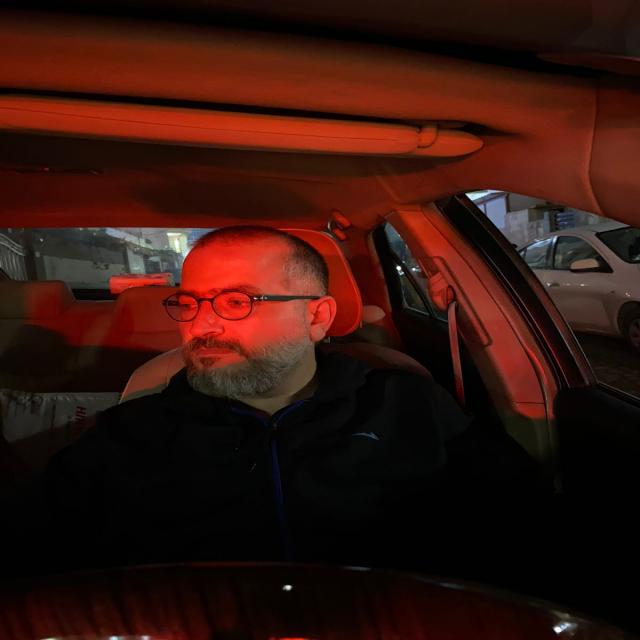person: (168, 214, 346, 406)
